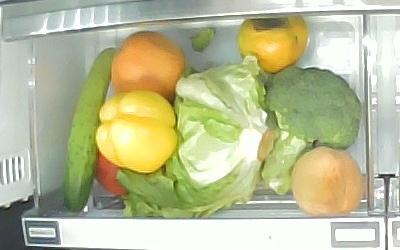broccoli: (261, 66, 362, 197)
cucumber: (64, 48, 118, 214)
grapefruit: (111, 31, 188, 101)
lettuce: (173, 54, 279, 216)
paprika: (95, 90, 179, 174)
peach: (291, 147, 360, 214)
persimmon: (238, 15, 308, 72)
